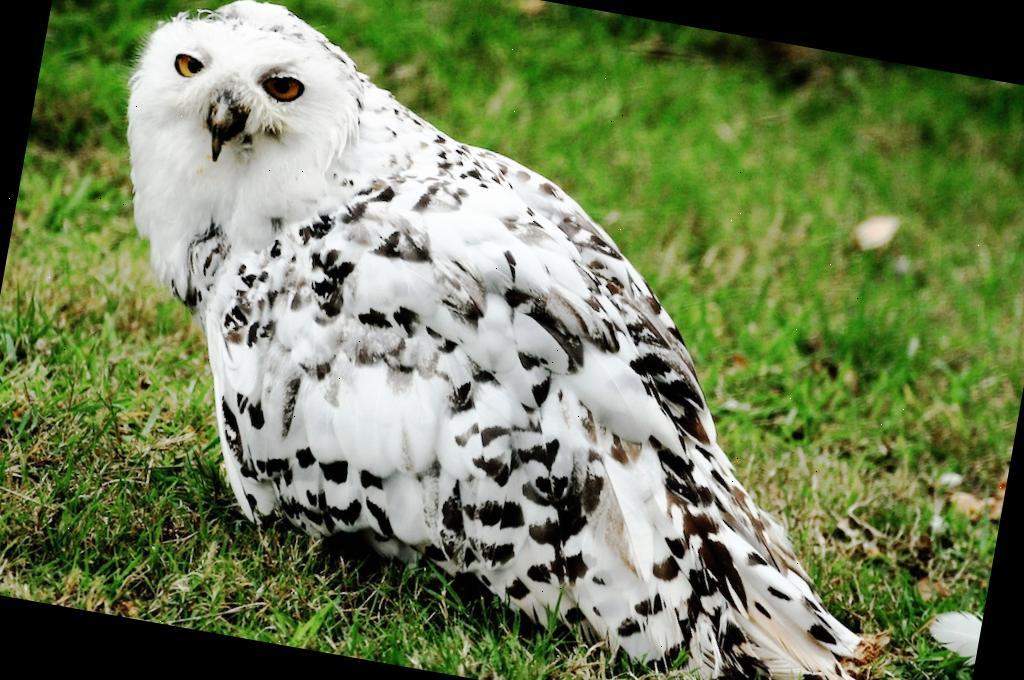Owl: (41, 0, 972, 680)
